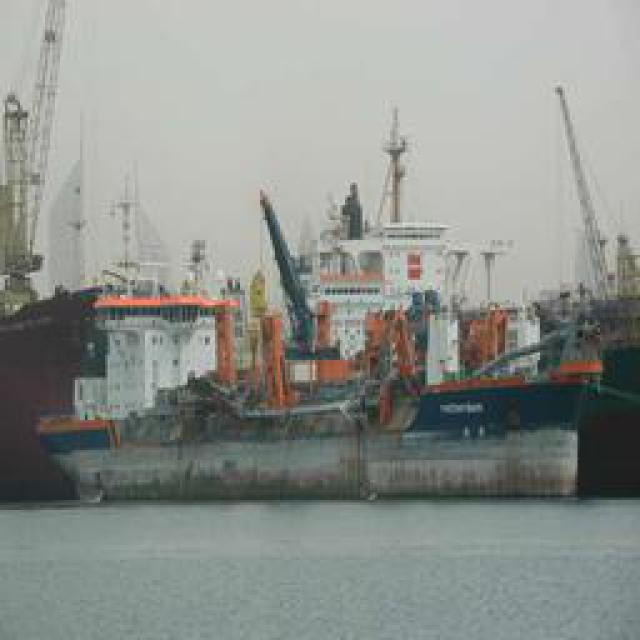Ship: (25, 129, 618, 479)
